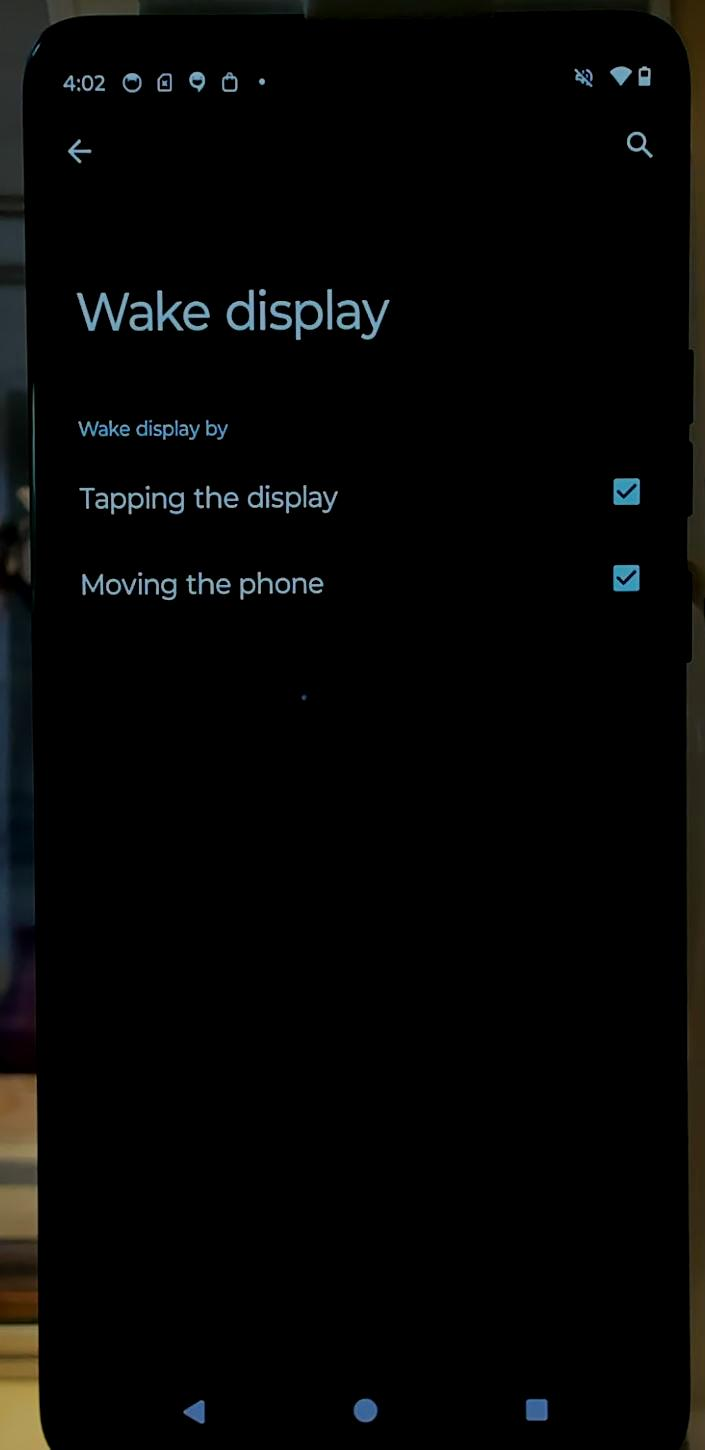Checkbox: (60, 458, 648, 534), (63, 550, 652, 619)
